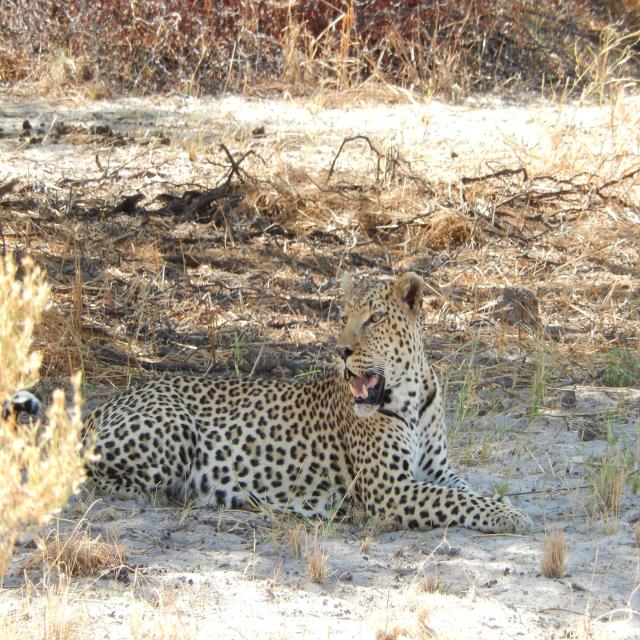Leopard: (18, 286, 524, 542)
